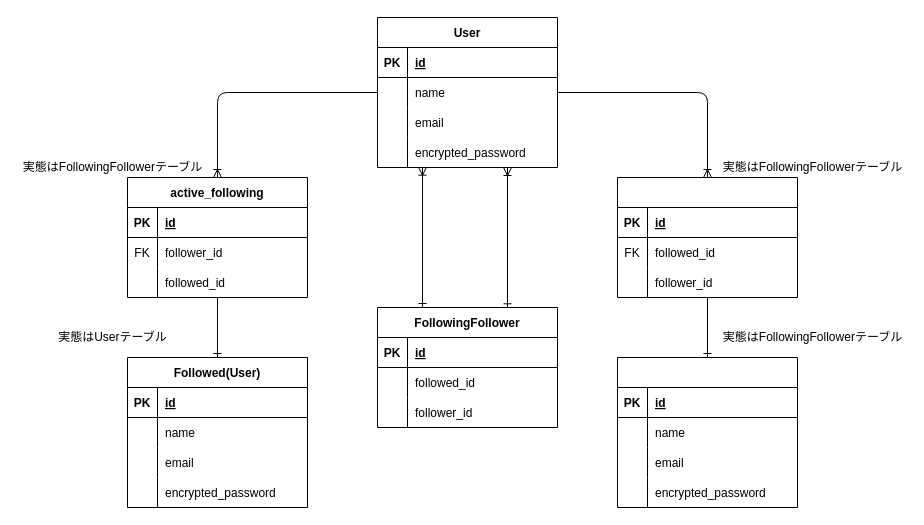
This 924x525 diagram has some shape labels left out. Here are the shapes that lost their labels. From the top down, the box of each, then its label:
(616, 176, 798, 298): passive_following
(616, 356, 798, 508): Follower(User)
